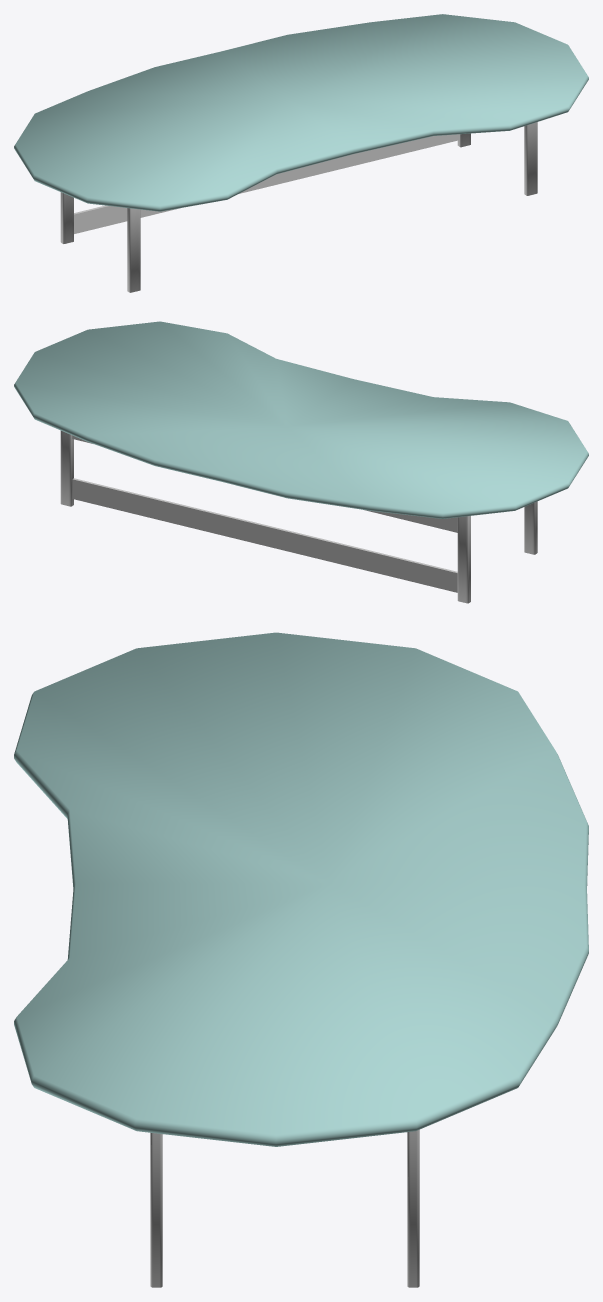
Rendered from desk.fbx.
3 renders of one model, top to bottom at view 1: azimuth 30°, elevation 25°; view 2: azimuth 150°, elevation 25°; view 3: azimuth 270°, elevation 25°, orthographic. The views are drawn at different scales.
Parts seen in each view (by area): view 1: desk, desk_legs; view 2: desk, desk_legs; view 3: desk, desk_legs.
Part boxes in pixels (<box>): desk: <box>14,14,588,211</box>; desk_legs: <box>60,122,537,292</box>; desk: <box>14,321,588,518</box>; desk_legs: <box>60,431,537,603</box>; desk: <box>14,632,588,1146</box>; desk_legs: <box>150,1129,419,1287</box>.
Size of the model in its own units: 428 by 83.65 by 206.
